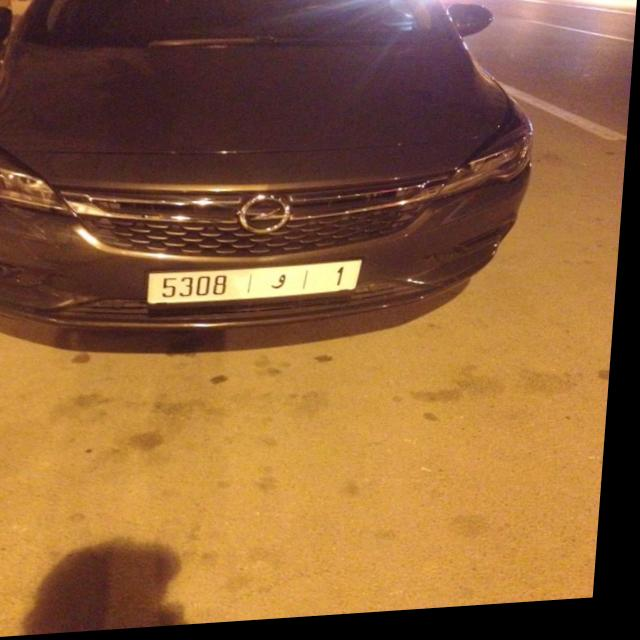License-Plate: (152, 265, 367, 307)
